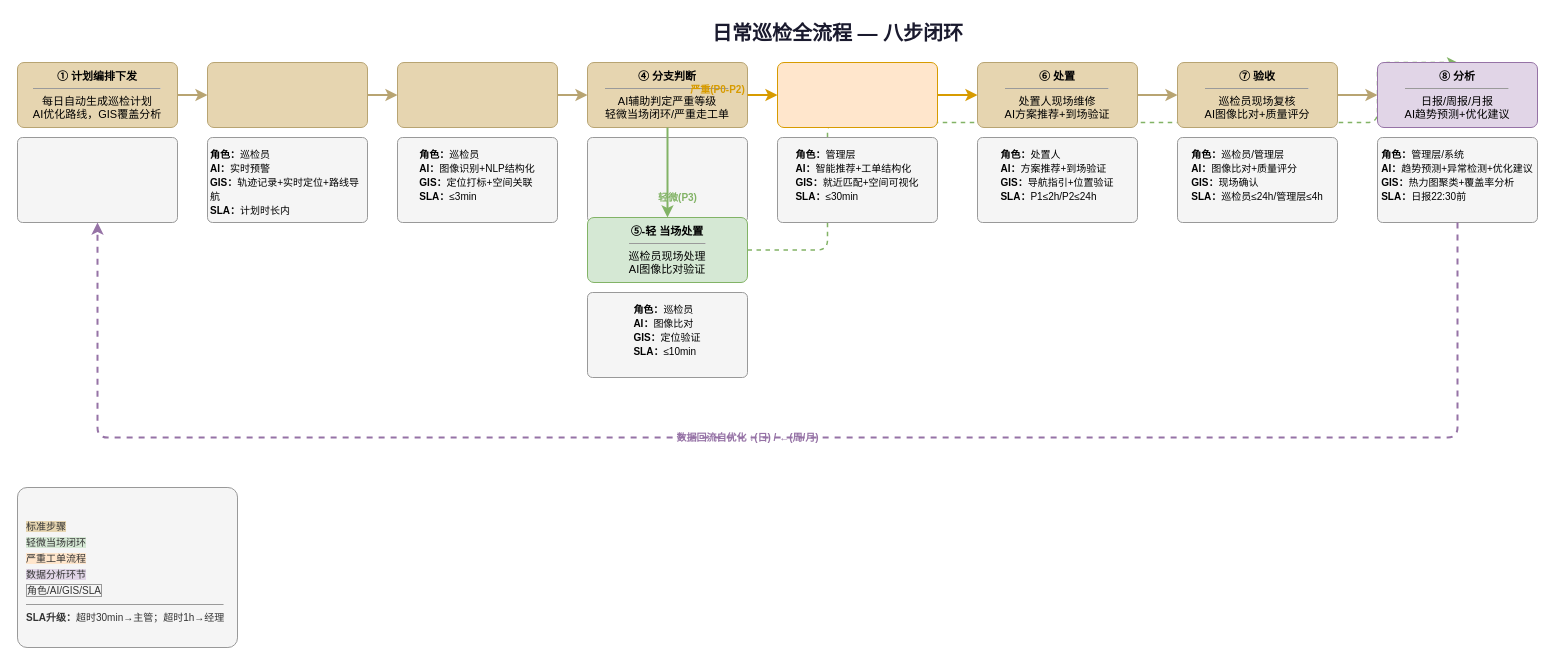
Some shapes in this 1555 by 665 pixel diagram are drawn without their labels. The shapes that lost their labels are listed below. From the top down, each one's box as (x1, y1, x2, y2) in pixels, then its label:
(206, 62, 368, 128): ② 现场巡检执行 按导航路线逐点巡检 GPS轨迹记录，AI实时预警
(396, 62, 558, 128): ③ 发现上报 拍照+语音上报异常 AI识别分类，NLP结构化
(776, 62, 938, 128): ⑤-严 工单创建分派 AI推荐处置人 GIS就近匹配
(16, 136, 178, 222): 角色： 管理层/巡检员 AI： 预测分析+路线优化 GIS： 覆盖分析+空间可视化 SLA： 每日06:00前
(586, 136, 748, 222): 角色： 系统+巡检员 AI： 严重程度预测 GIS： 复用定位数据 SLA： ≤30秒
(16, 486, 238, 648): 图例
